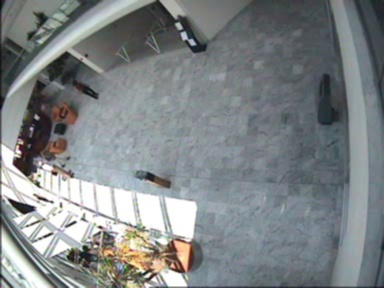person: (38, 160, 74, 178), (39, 149, 69, 166), (72, 81, 99, 99)
